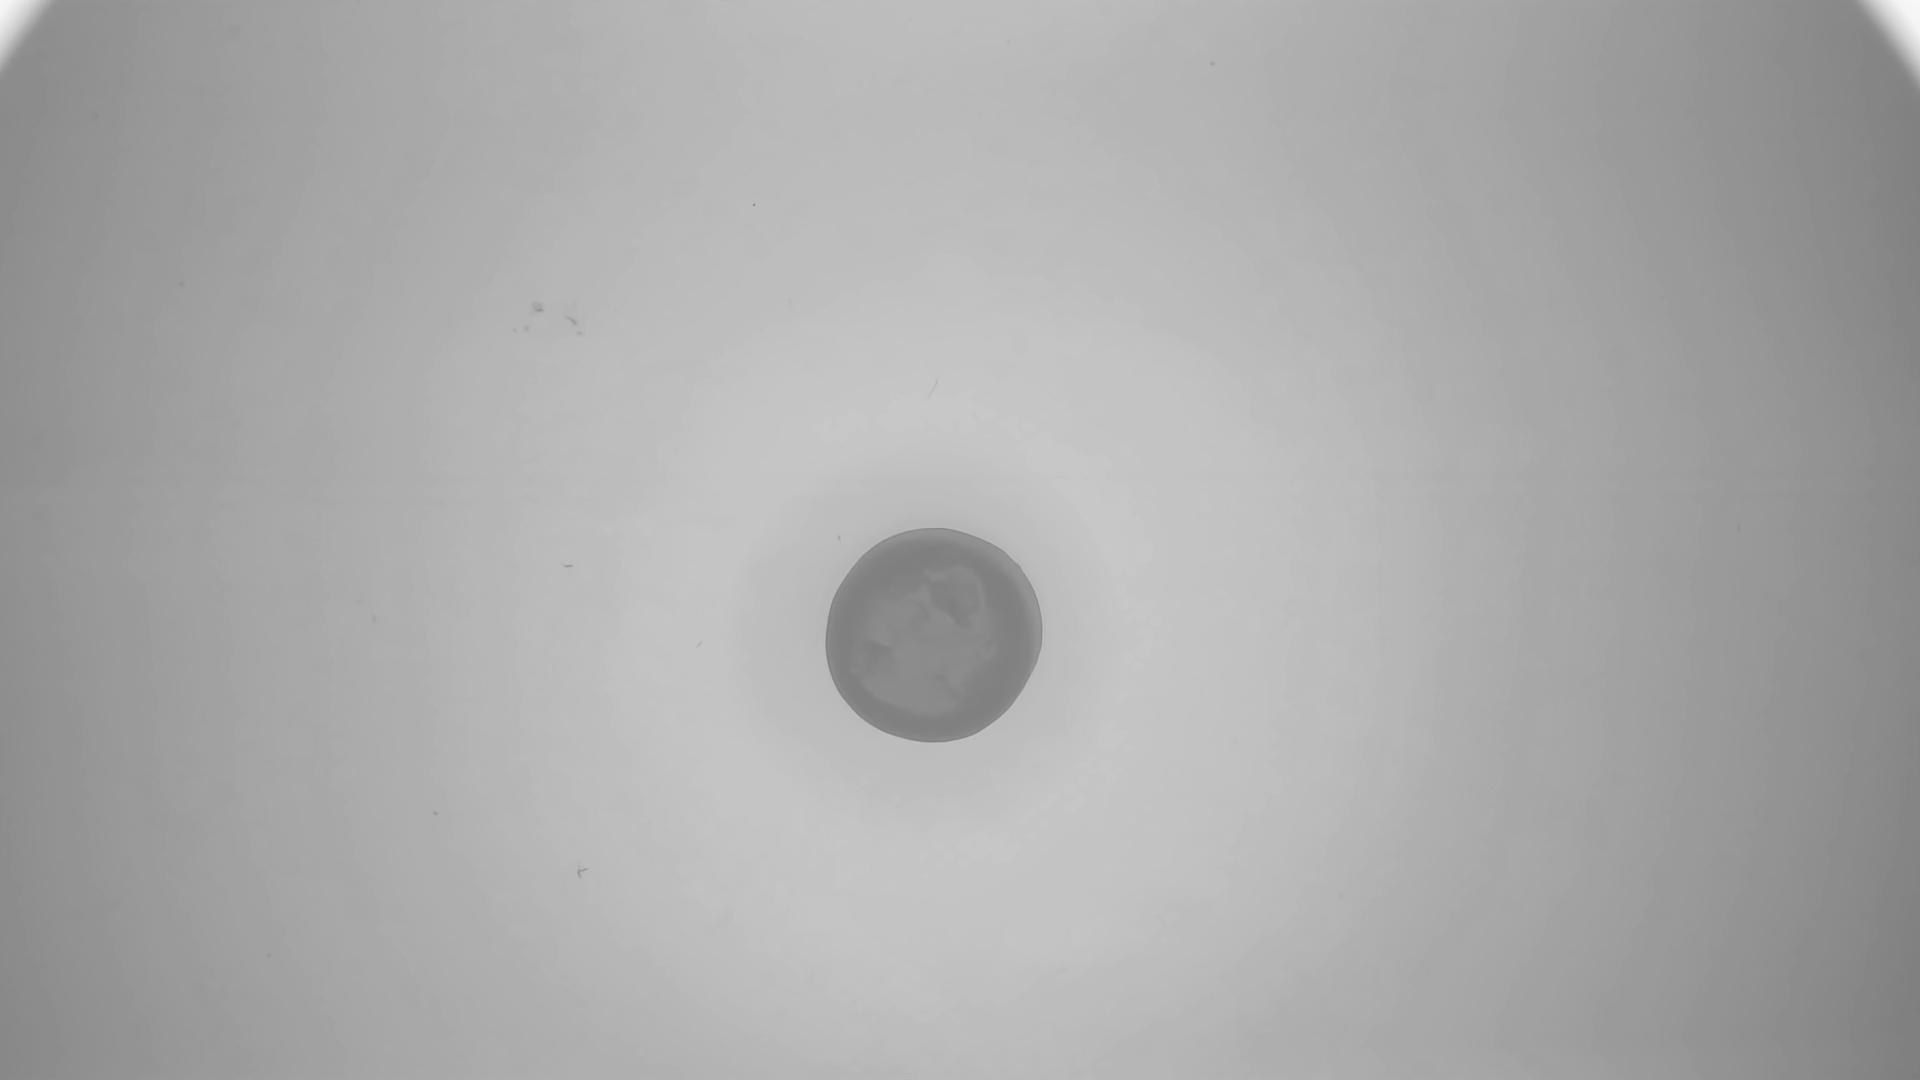abnormal: (825, 527, 1046, 746)
